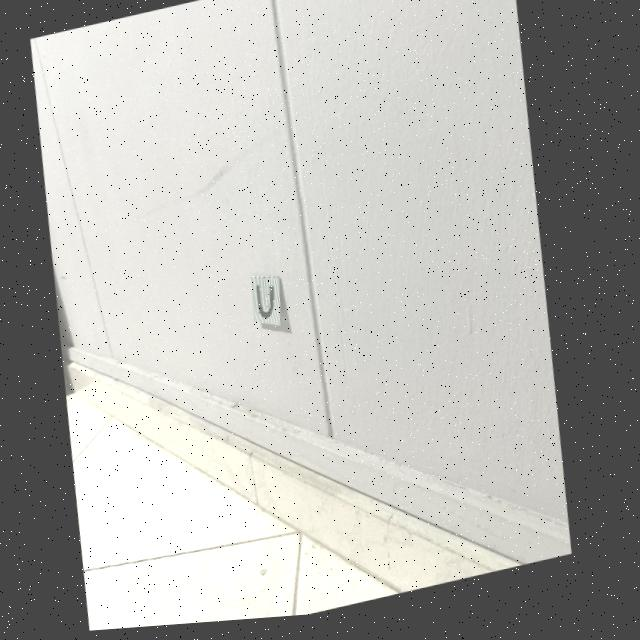U: (261, 290, 279, 323)
